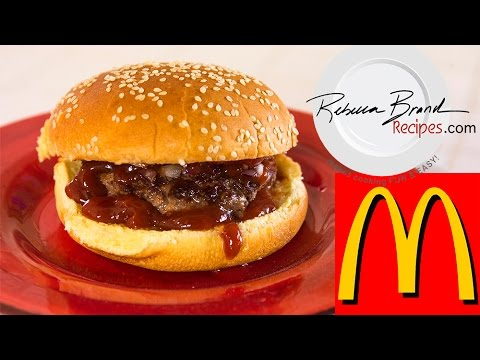mcdonalds: (337, 184, 476, 299)
